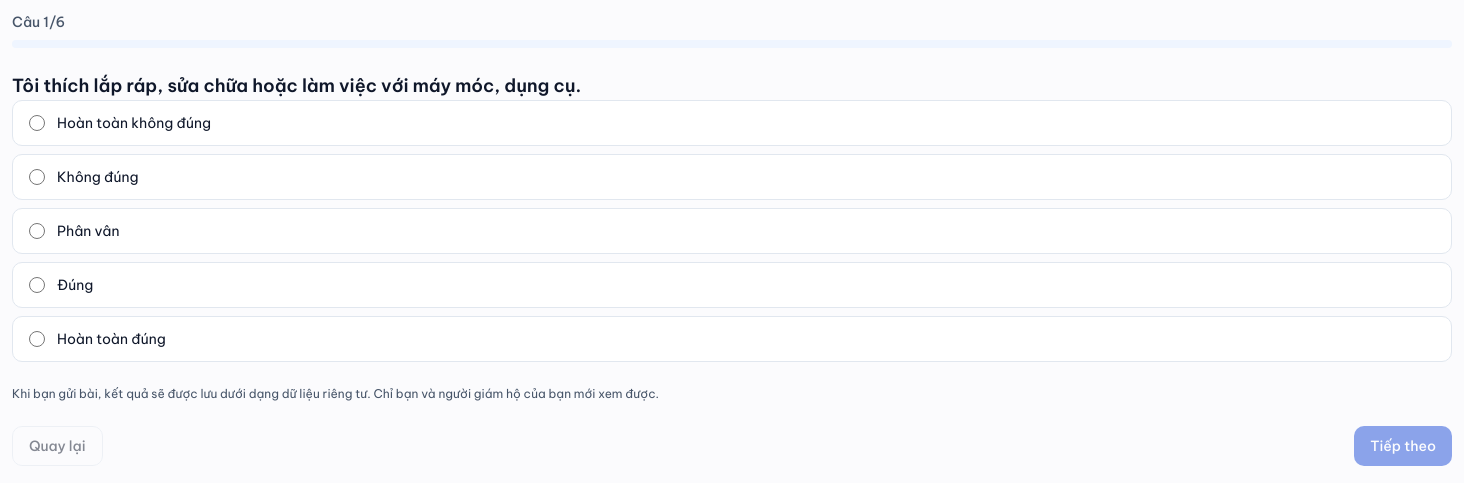
AssessmentRunner (FR-10/11, a11y) › can go back to a previous item with Prev
expect the button "Quay lại" is disabled: met, box [12, 426, 103, 466]
Click the radio button labelled "Phân vân" at (37, 231), box [29, 223, 45, 239]
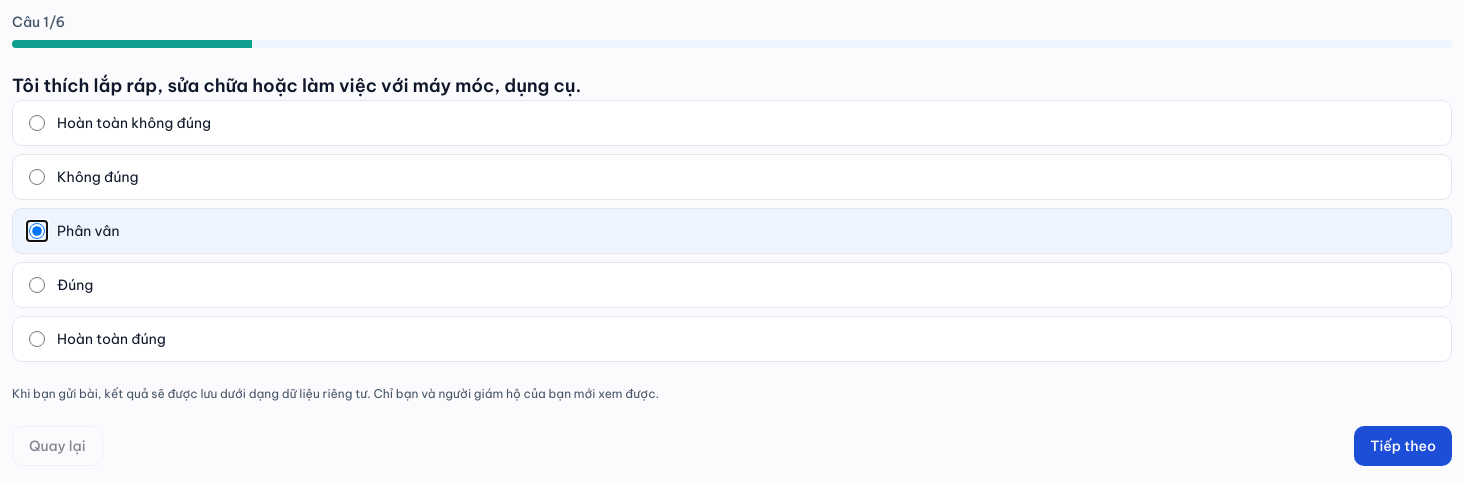
Click the button "Tiếp theo" at (1403, 446), box [1354, 426, 1452, 466]
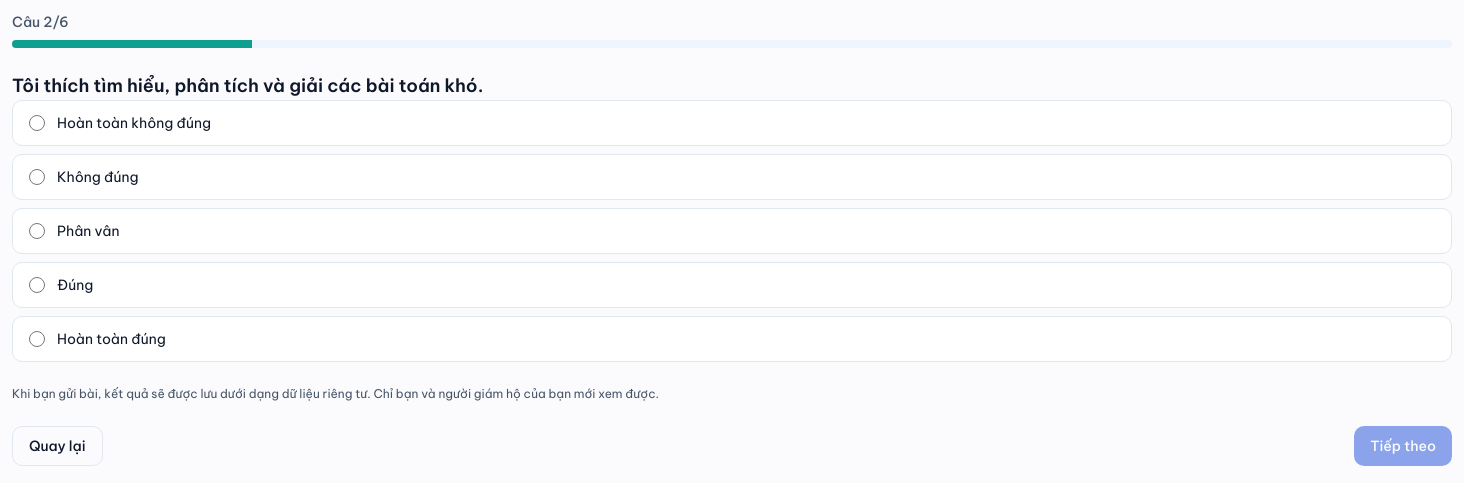
expect the text with test id "runner-progress" shows "2/6": met, box [12, 13, 69, 31]
Click the button "Quay lại" at (57, 446), box [12, 426, 103, 466]
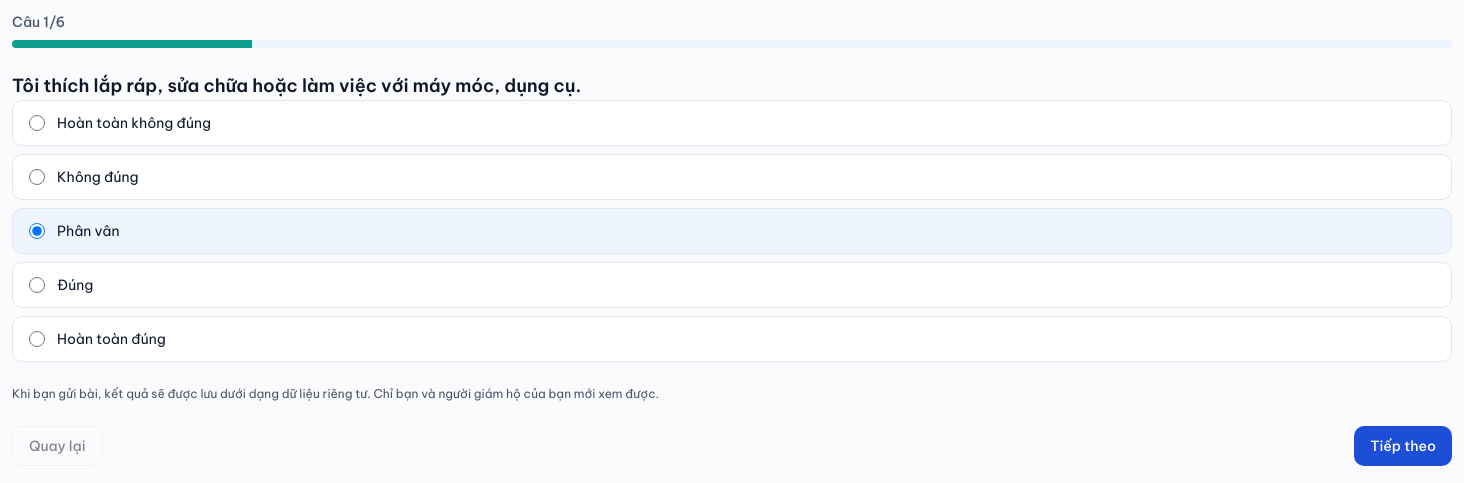
expect the text with test id "runner-progress" shows "1/6": met, box [12, 13, 65, 31]
